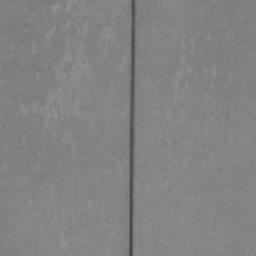Scratches: (128, 0, 136, 256)
